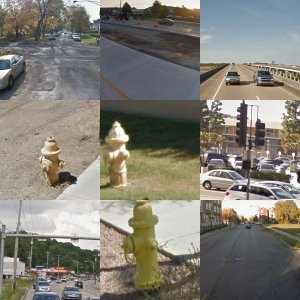汽車: (156, 150, 183, 169)
煙囪: (119, 217, 148, 241), (157, 221, 175, 243), (185, 223, 199, 244)
行人穿越道: (201, 139, 300, 202), (200, 14, 300, 70), (3, 203, 100, 248)
